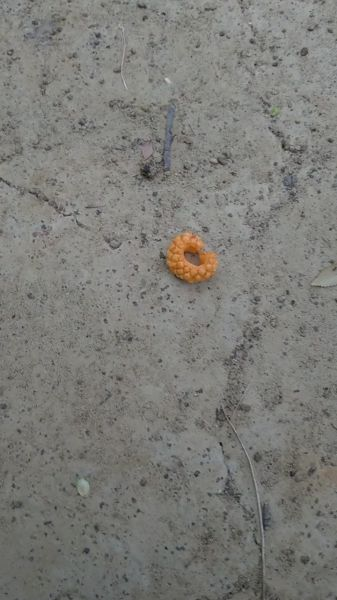eggs: (164, 227, 223, 287)
